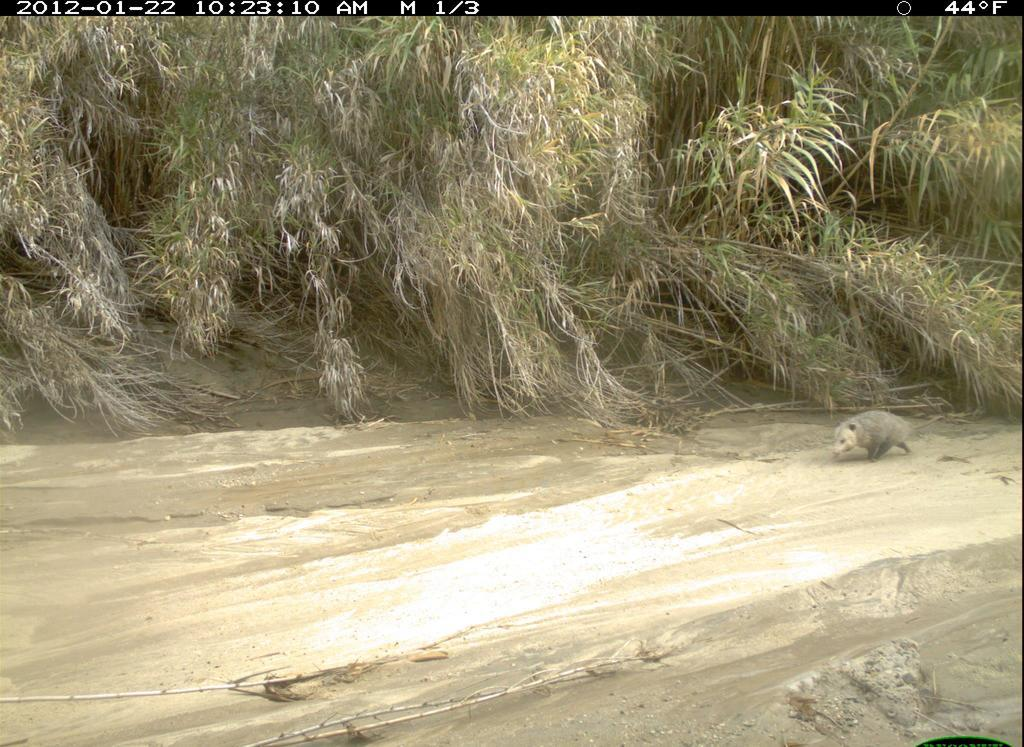opossum: (830, 401, 945, 474)
